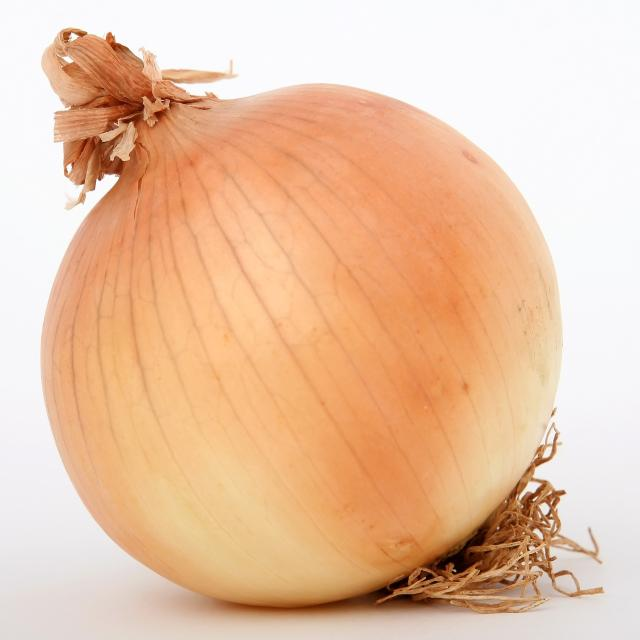onion: (29, 27, 571, 627)
